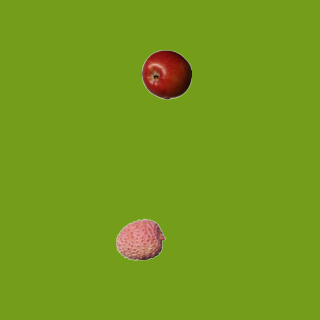Apple Braeburn: (141, 49, 191, 99)
Lychee: (115, 214, 165, 264)
